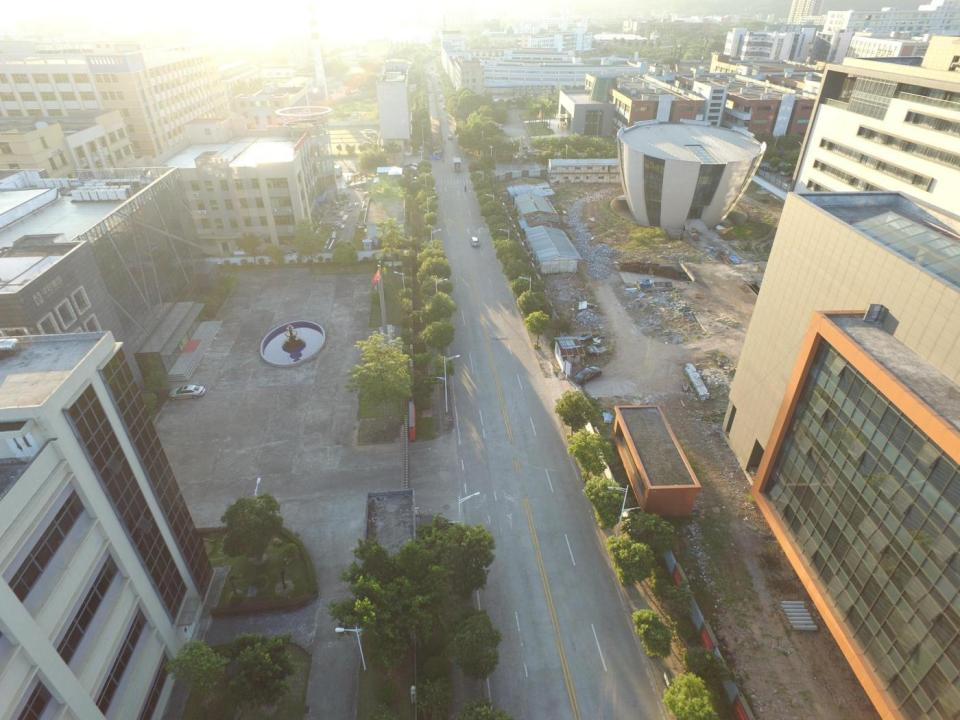car: (168, 384, 204, 403), (572, 366, 602, 386), (405, 165, 420, 173), (470, 237, 480, 248), (405, 163, 419, 170), (364, 128, 377, 134), (361, 141, 372, 146), (448, 134, 453, 140)
truck: (329, 164, 343, 178), (454, 156, 462, 173)
